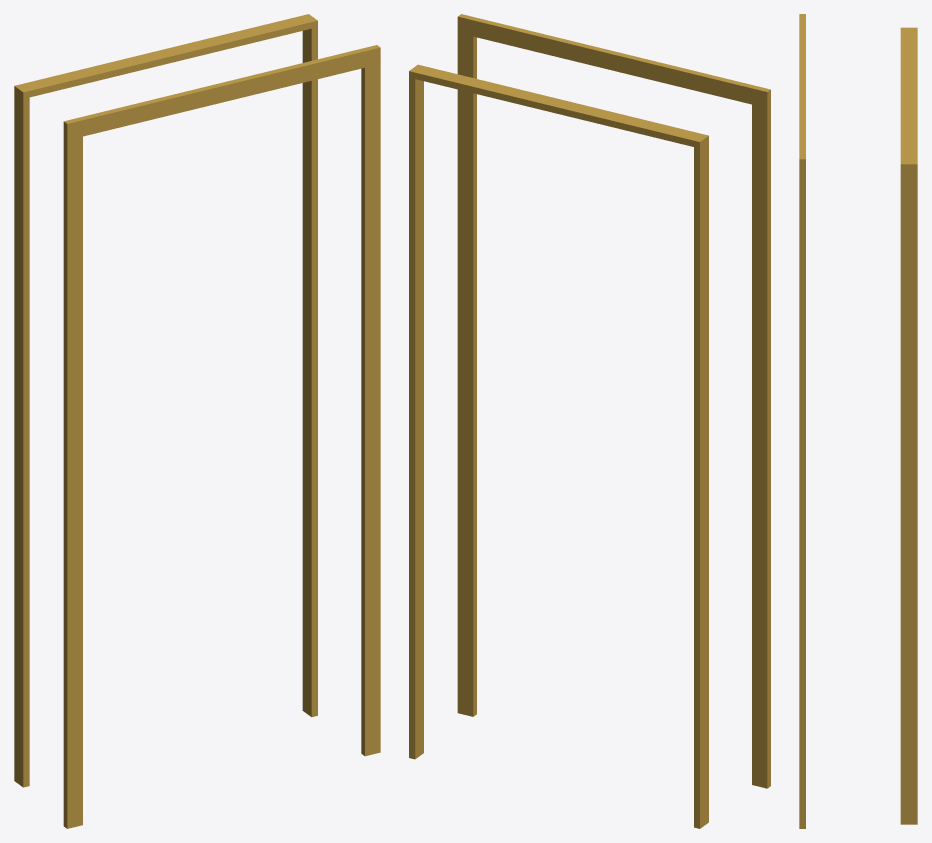
File: frame_gold.glb
3 views of the same model, side by side, from view 1: azimuth 30°, elevation 25°; view 2: azimuth 150°, elevation 25°; view 3: azimuth 270°, elevation 25° (orthographic). The views are drawn at different scales.
Parts seen in each view (by area): view 1: Lift_Frame_L, Lift_Frame_R, Jamb_L, Jamb_R, Lift_Frame_T, Jamb_Top; view 2: Lift_Frame_R, Lift_Frame_L, Jamb_L, Jamb_R, Lift_Frame_T, Jamb_Top; view 3: Jamb_R, Lift_Frame_R, Jamb_Top, Lift_Frame_T.
Part boxes in pixels (x1,y1,x2,y2): Lift_Frame_L: (63,118,82,828); Lift_Frame_R: (361,45,380,756); Jamb_L: (14,92,29,787); Jamb_R: (302,27,317,717); Lift_Frame_T: (64,45,380,139); Jamb_Top: (14,14,317,98); Lift_Frame_R: (457,14,476,716); Lift_Frame_L: (752,86,770,788); Jamb_L: (694,142,708,828); Jamb_R: (409,77,423,759); Lift_Frame_T: (457,14,770,108); Jamb_Top: (409,64,708,148); Jamb_R: (900,170,917,824); Lift_Frame_R: (799,152,805,828); Jamb_Top: (900,27,917,170); Lift_Frame_T: (799,21,805,174).
Bounding box in the file's own units: 1 × 2.15 × 0.345.
